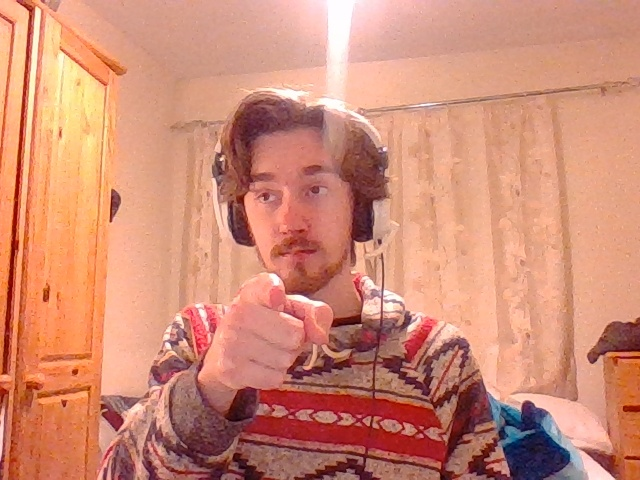you: (196, 272, 333, 409)
